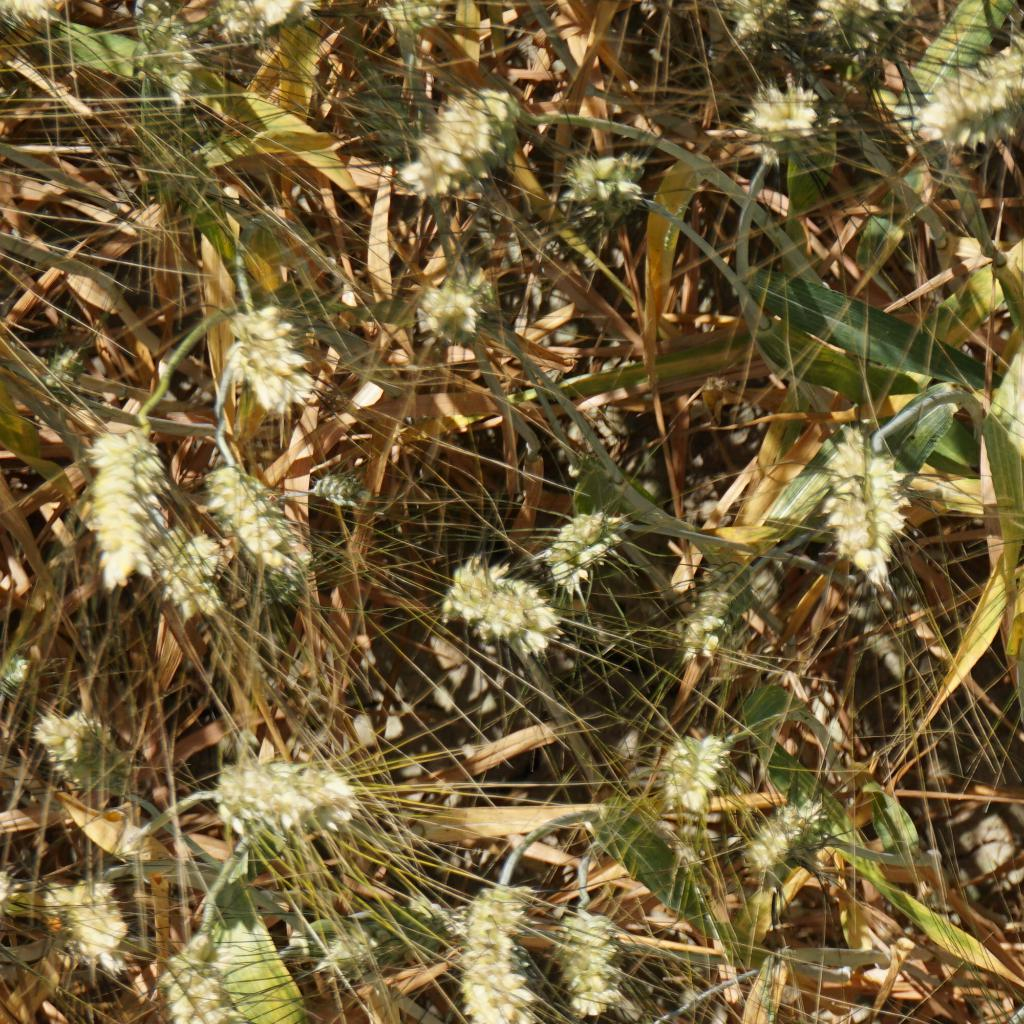0-0: (197, 455, 318, 600), (345, 57, 453, 217), (817, 420, 918, 591), (424, 546, 570, 655), (84, 423, 177, 567), (135, 928, 273, 1024), (211, 751, 365, 835), (906, 32, 1024, 133), (214, 312, 333, 412), (459, 879, 540, 1024), (540, 888, 627, 1022), (125, 108, 222, 218), (43, 876, 128, 970), (738, 69, 828, 156), (735, 797, 827, 880), (538, 506, 636, 581), (30, 702, 110, 789), (654, 721, 728, 813), (442, 79, 527, 158), (153, 523, 227, 605), (564, 147, 644, 222), (672, 568, 735, 659), (813, 0, 900, 65), (133, 11, 196, 92), (410, 277, 483, 344), (209, 0, 320, 39), (402, 131, 469, 194), (314, 928, 374, 985), (371, 0, 457, 38), (717, 0, 786, 45), (401, 894, 458, 944), (308, 471, 370, 513), (34, 347, 83, 392), (1, 648, 34, 698)
